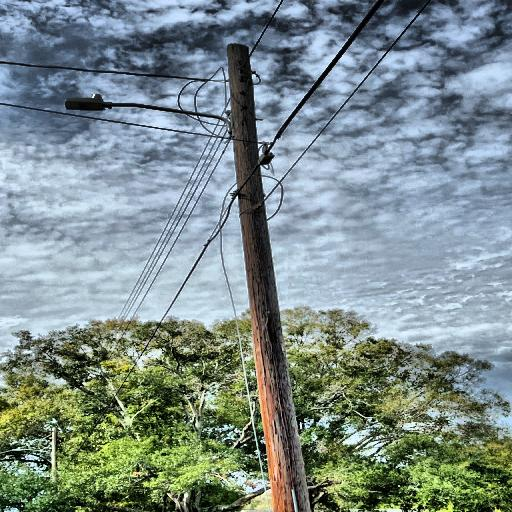pole: (214, 38, 350, 512)
street light: (64, 93, 239, 140)
